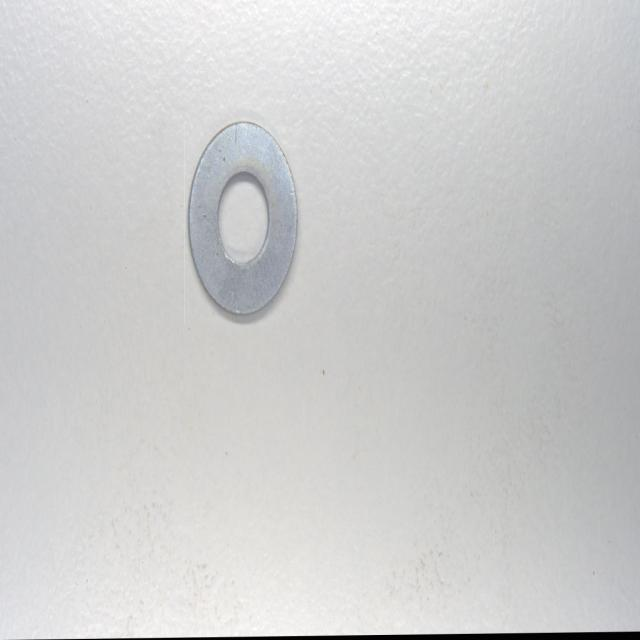washer: (185, 122, 301, 325)
